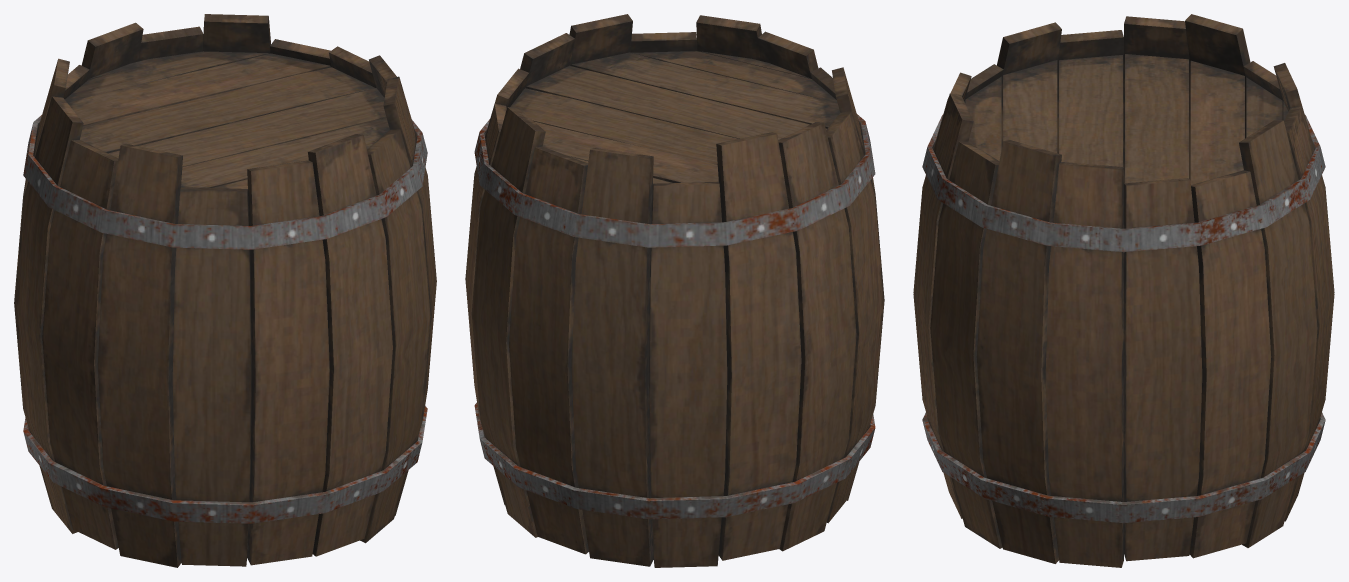
The model's file is WoodenBarrel1.obj.
3 renders of one model, left to right at view 1: azimuth 30°, elevation 25°; view 2: azimuth 150°, elevation 25°; view 3: azimuth 270°, elevation 25°, orthographic.
Parts seen in each view (by area): view 1: WoodenBarrel; view 2: WoodenBarrel; view 3: WoodenBarrel.
Part boxes in pixels (box(x1,y1,x2,y2)): WoodenBarrel: box(14, 14, 436, 567); WoodenBarrel: box(465, 14, 884, 567); WoodenBarrel: box(913, 14, 1334, 567).
Bounding box in the file's own units: 0.8769 × 0.9608 × 0.8769.
Materials: 1 (1 with a texture image).
